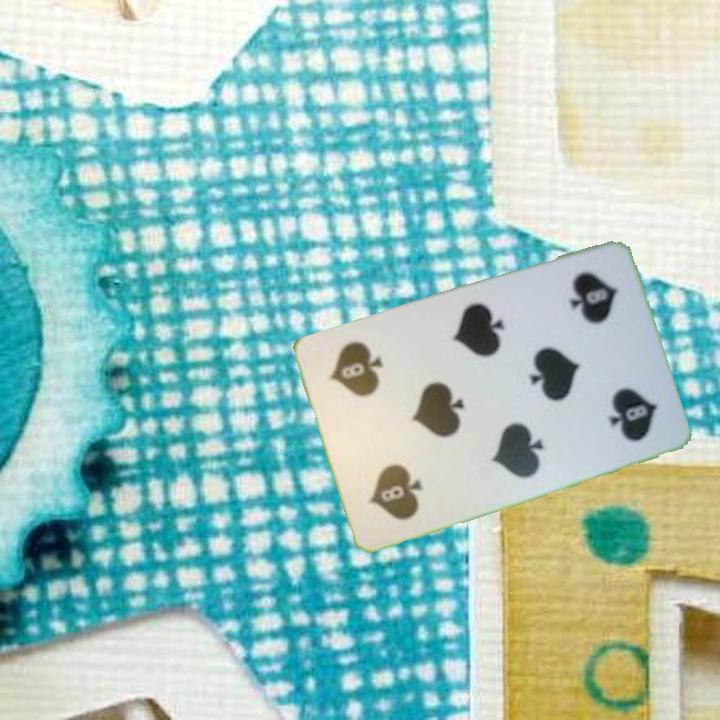s_8.png: (534, 252, 645, 373), (339, 415, 450, 535)
